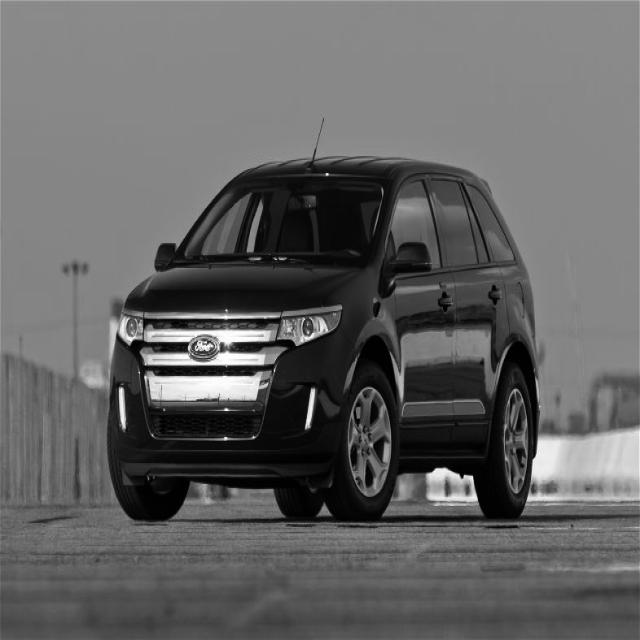car: (106, 120, 542, 523)
